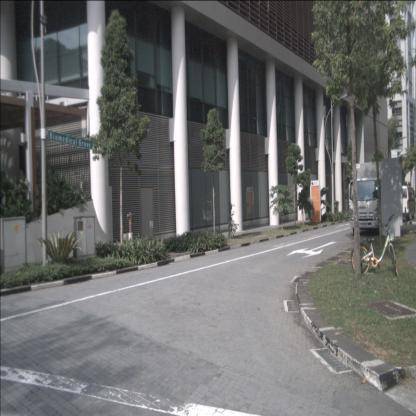vehicle-bicycle: (351, 212, 399, 277)
vehicle-car: (394, 185, 416, 220)
vehicle-truck: (349, 161, 400, 235)
